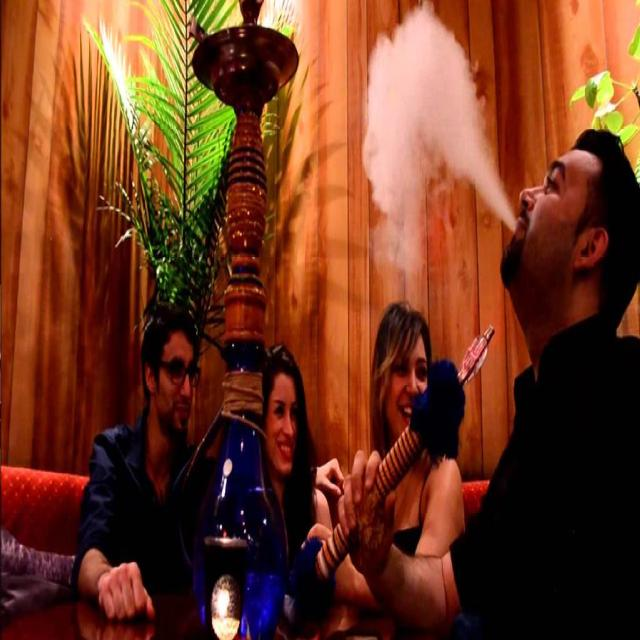smoking: (355, 13, 640, 617)
